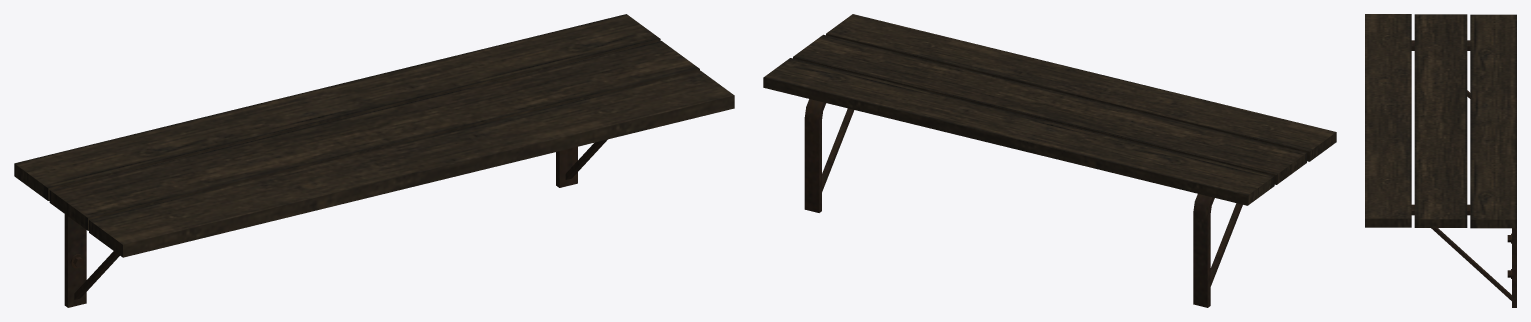
Rendered from hanging_shelf_mx_2.dae.
3 views of the same model, side by side, from view 1: azimuth 30°, elevation 25°; view 2: azimuth 150°, elevation 25°; view 3: azimuth 270°, elevation 25° (orthographic). The views are drawn at different scales.
Visible parts, largest first — view 1: hanging_shelf_mx_2; view 2: hanging_shelf_mx_2; view 3: hanging_shelf_mx_2.
Boxes of the visible parts, left/top/right/bottom form: hanging_shelf_mx_2: left=14, top=14, right=734, bottom=307; hanging_shelf_mx_2: left=763, top=14, right=1336, bottom=307; hanging_shelf_mx_2: left=1365, top=14, right=1516, bottom=307.
Bounding box in the file's own units: 1 × 0.312 × 0.24.
2 materials, 2 textured.
